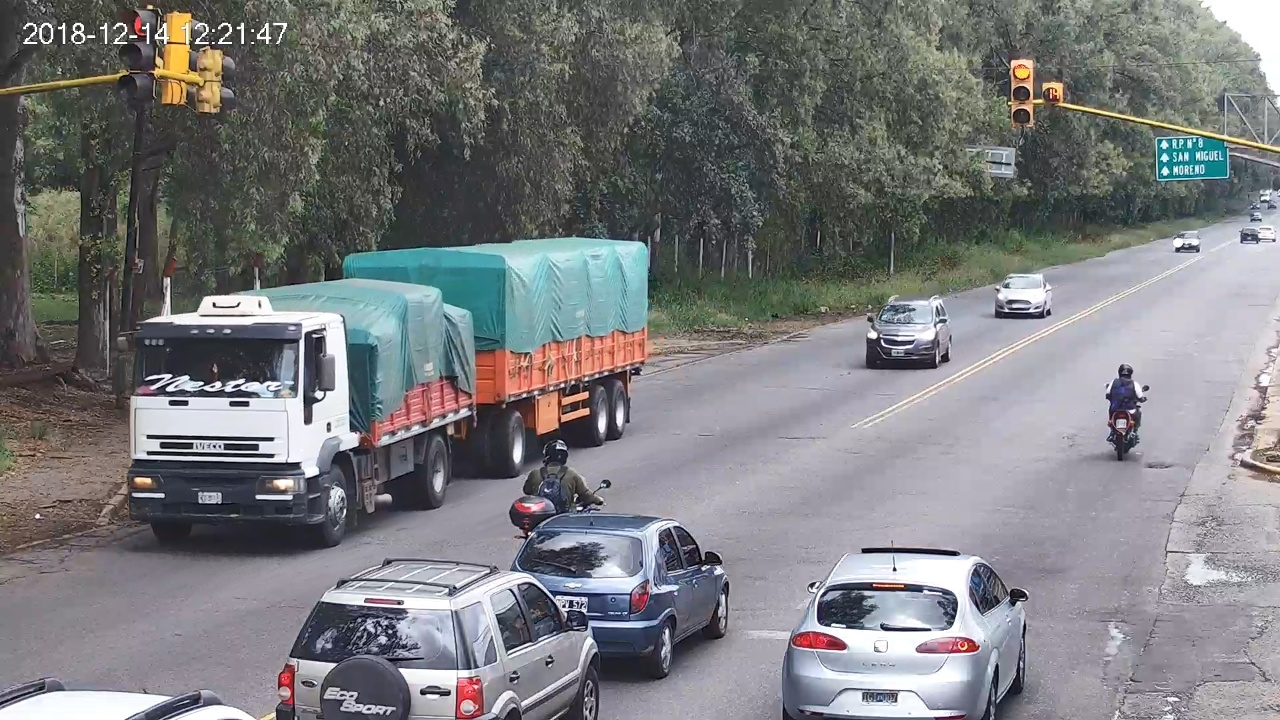car: (277, 558, 600, 720), (782, 548, 1030, 720)
front car: (866, 295, 952, 369), (995, 273, 1053, 319)
motorcycle: (1104, 383, 1149, 461)
traffic light: (1011, 59, 1034, 124)
